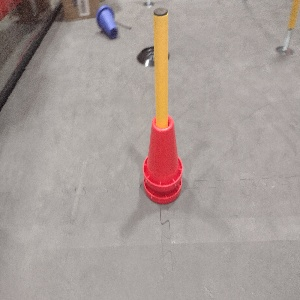Blue_1: (95, 4, 119, 41)
Red_2: (136, 107, 186, 207)
